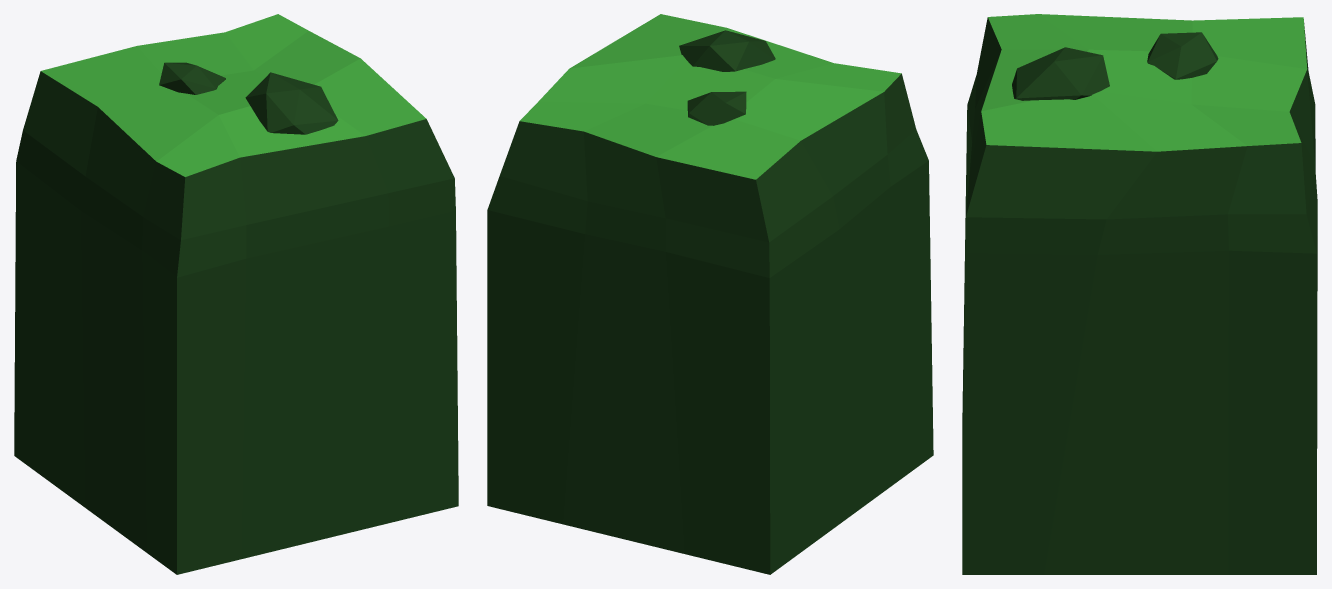
Rendered from TileWall_02.fbx.
3 views of the same model, side by side, from view 1: azimuth 30°, elevation 25°; view 2: azimuth 150°, elevation 25°; view 3: azimuth 270°, elevation 25° (orthographic). The views are drawn at different scales.
Visible parts, largest first — view 1: WallTile_02; view 2: WallTile_02; view 3: WallTile_02.
Part boxes in pixels (box(x1,y1,x2,y2)): WallTile_02: box(14, 14, 458, 574); WallTile_02: box(487, 14, 933, 574); WallTile_02: box(962, 14, 1317, 574).
Size of the model in its own units: 101 by 141 by 100.
